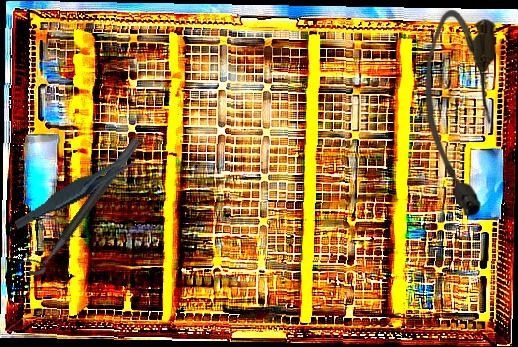Cannula: (422, 9, 497, 219)
Fixation Ring: (18, 128, 142, 281)
Tissue Forceps: (6, 152, 149, 231)
